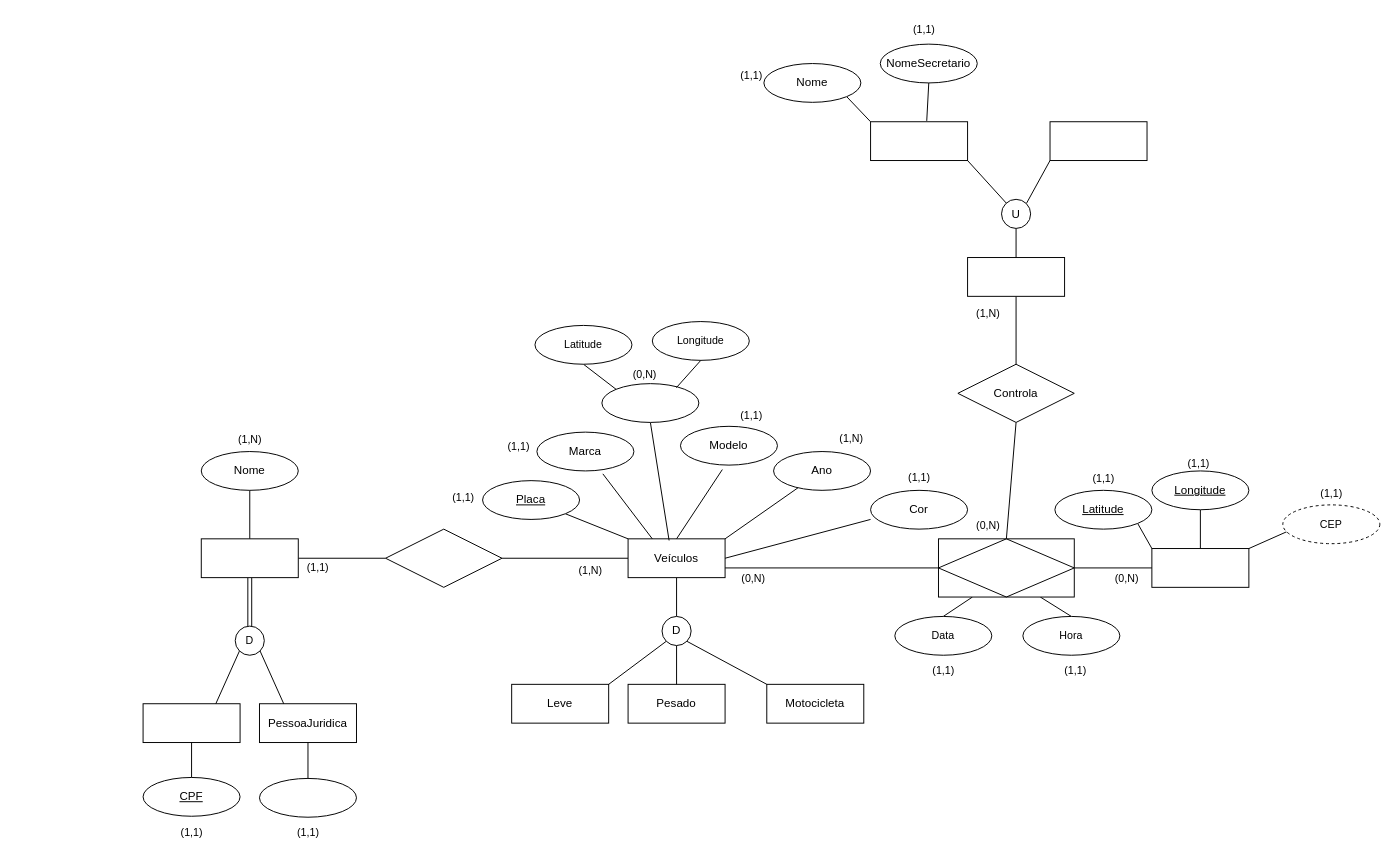
Image size: 1397x860. Some labels were removed from this diagram. The shapes that lost their labels are listed below. From the top down, each one's centre as x and y in pixels, then its label:
the point at 919,141: Secretaria
the point at 1098,141: Empresa
the point at 1016,276: Entidade Externa
the point at 650,402: Origem
the point at 249,558: Proprietário
the point at 443,557: possui
the point at 1006,567: Itinerario
the point at 1200,567: Pontos
the point at 191,723: PessoaFisica
the point at 307,797: CNPJ
